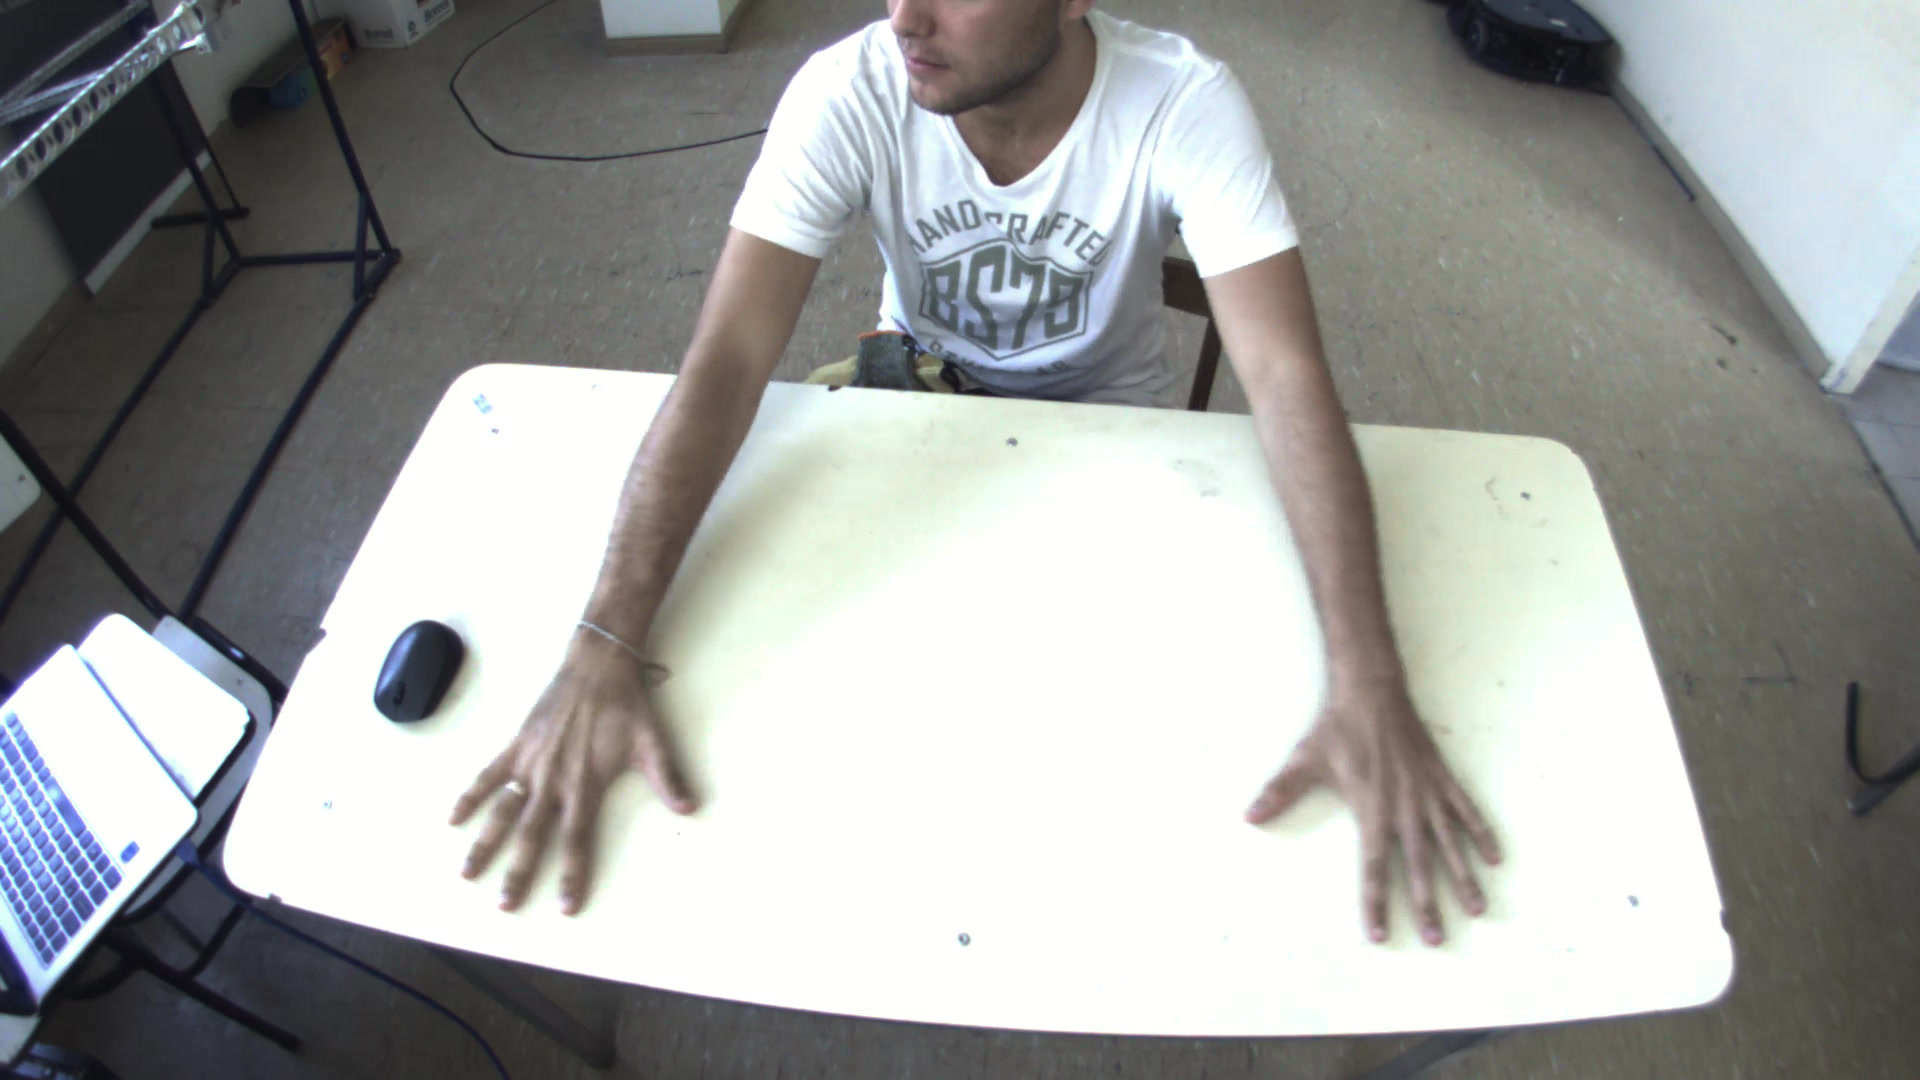hand: (1245, 674, 1524, 957), (418, 641, 688, 934)
